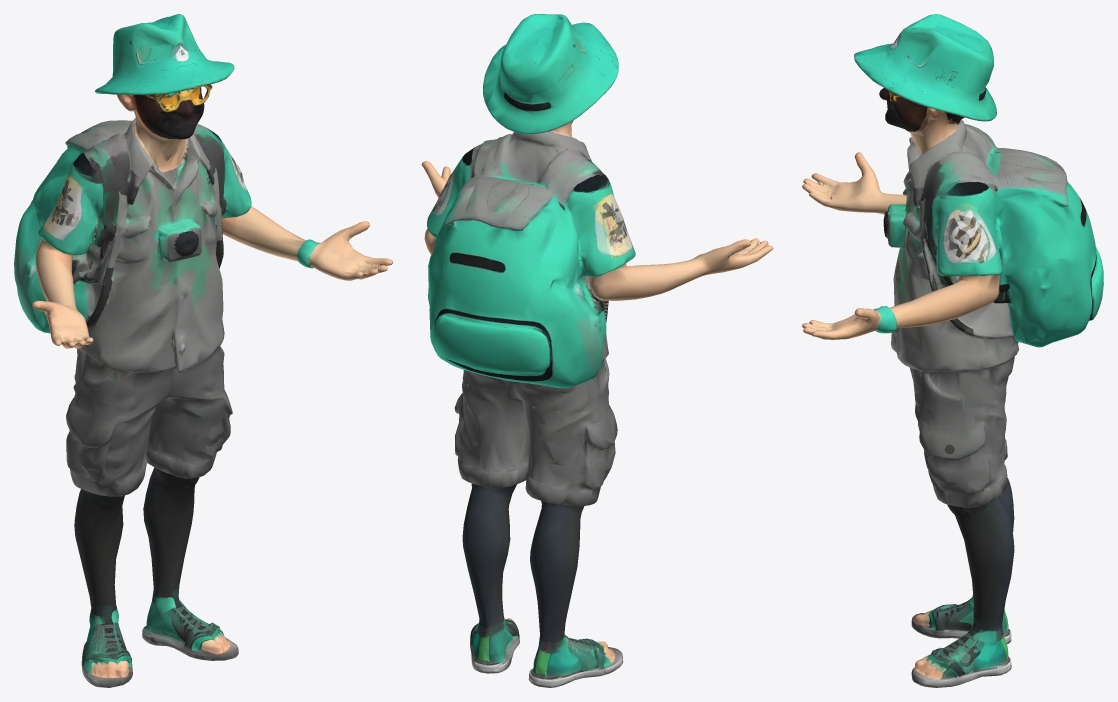
The model's file is npc_lost_tourist.glb.
3 renders of one model, left to right at view 1: azimuth 30°, elevation 25°; view 2: azimuth 150°, elevation 25°; view 3: azimuth 270°, elevation 25°, orthographic. The views are drawn at different scales.
Visible parts, largest first — view 1: Mesh_0; view 2: Mesh_0; view 3: Mesh_0.
Boxes of the visible parts, <box> form: Mesh_0: <box>14,14,392,687</box>; Mesh_0: <box>421,14,773,687</box>; Mesh_0: <box>802,14,1103,687</box>.
Size of the model in its own units: 0.9253 by 1.7 by 0.7349.
1 material, 1 textured.
